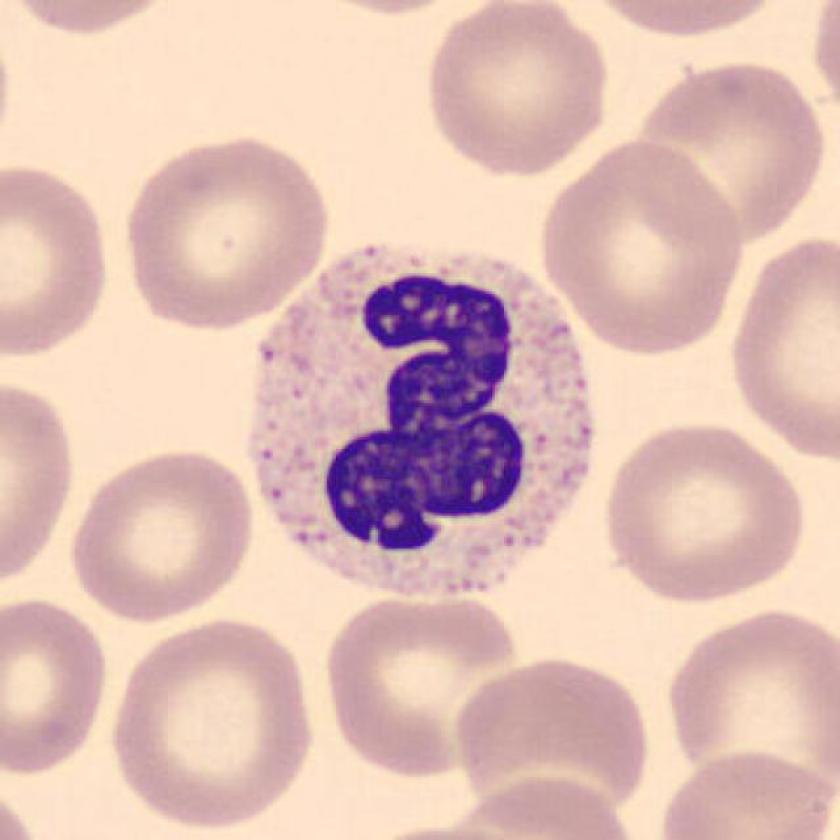neutrophil: (253, 243, 590, 592)
